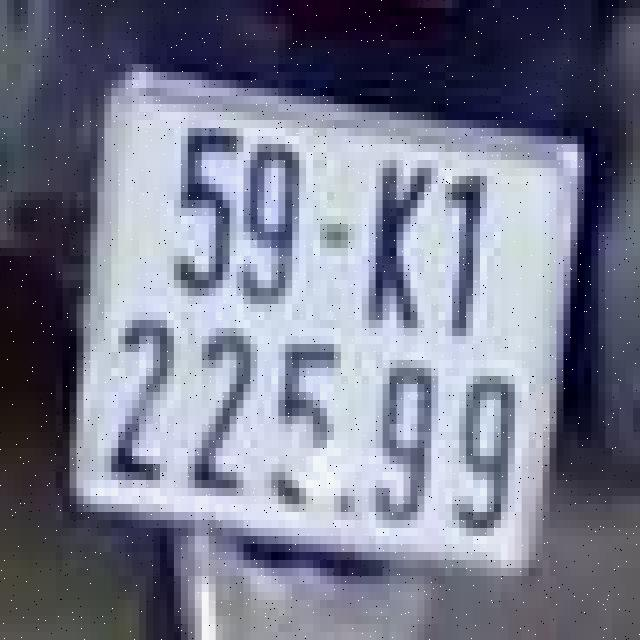1: (442, 168, 497, 352)
2: (184, 308, 254, 508), (108, 304, 177, 504)
5: (261, 328, 337, 528), (174, 104, 236, 296)
9: (442, 360, 518, 552), (240, 132, 317, 316), (362, 348, 431, 532)
K: (358, 148, 435, 340)
